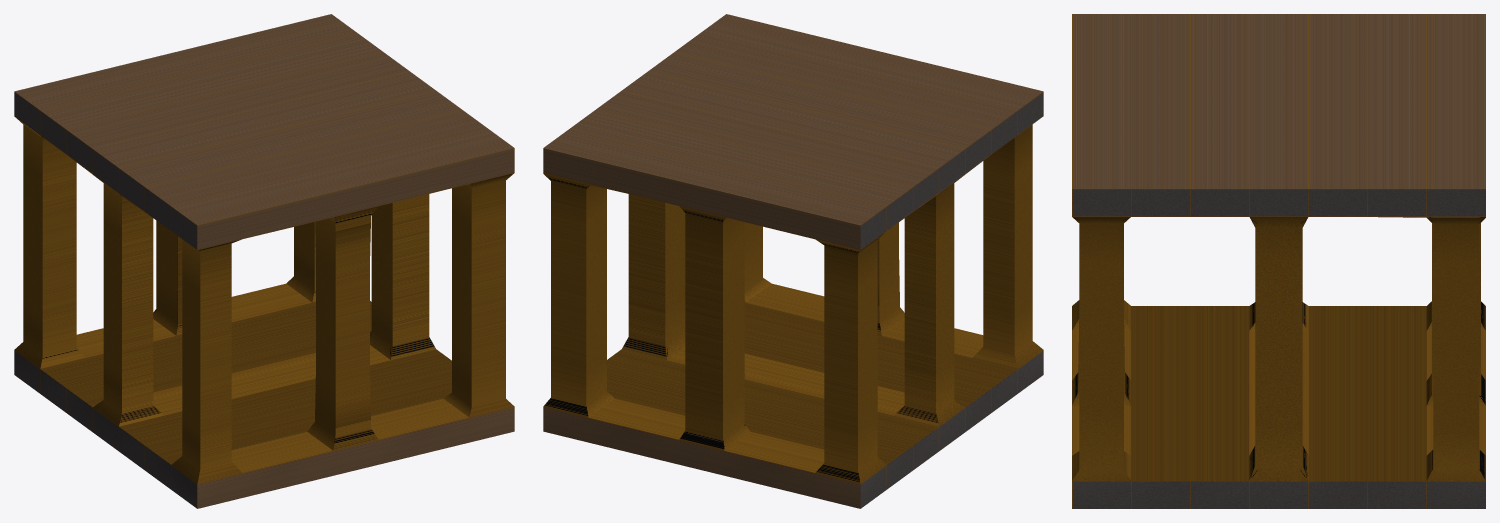
The model's file is cage.fbx.
3 views of the same model, side by side, from view 1: azimuth 30°, elevation 25°; view 2: azimuth 150°, elevation 25°; view 3: azimuth 270°, elevation 25° (orthographic). The views are drawn at different scales.
Visible parts, largest first — view 1: pCube3; view 2: pCube3; view 3: pCube3.
Boxes of the visible parts, bbox=[...] form: pCube3: bbox=[14, 14, 514, 508]; pCube3: bbox=[543, 14, 1043, 508]; pCube3: bbox=[1072, 14, 1485, 508].
Bounding box in the file's own units: 2 × 1.71 × 2.
